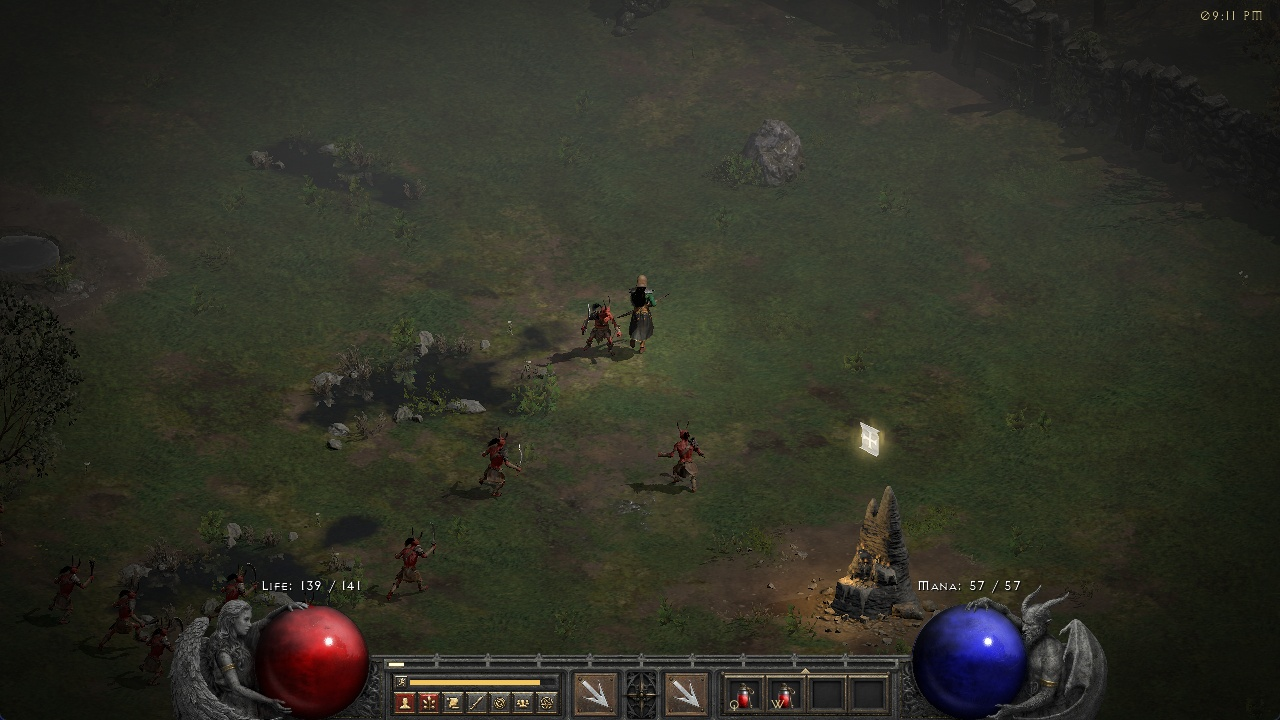fallen: (655, 422, 712, 498), (391, 522, 439, 595), (46, 555, 96, 621), (478, 425, 526, 493), (143, 619, 188, 678), (585, 299, 625, 352), (110, 586, 143, 644), (226, 560, 259, 601)
